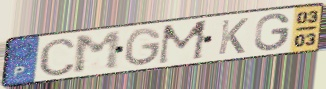C: (37, 36, 78, 78)
G: (253, 12, 293, 53), (124, 27, 164, 68)
K: (216, 17, 251, 57)
M: (155, 18, 211, 67), (73, 29, 123, 76)
